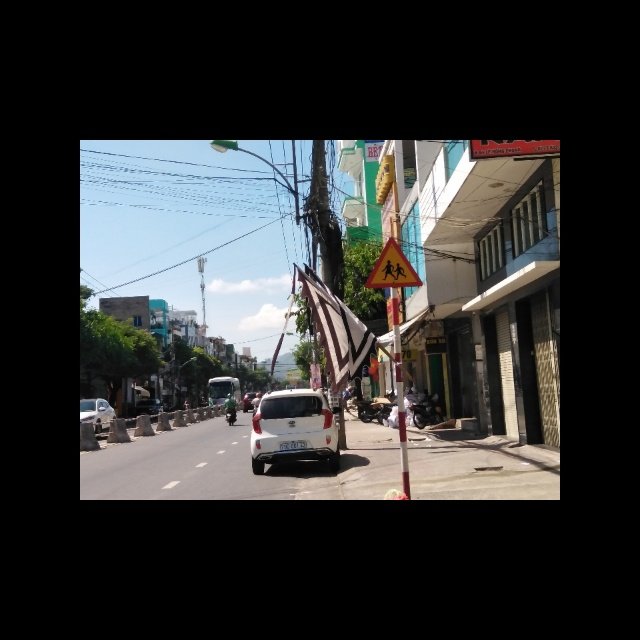Trẻ em ngang qua: (362, 239, 424, 289)
